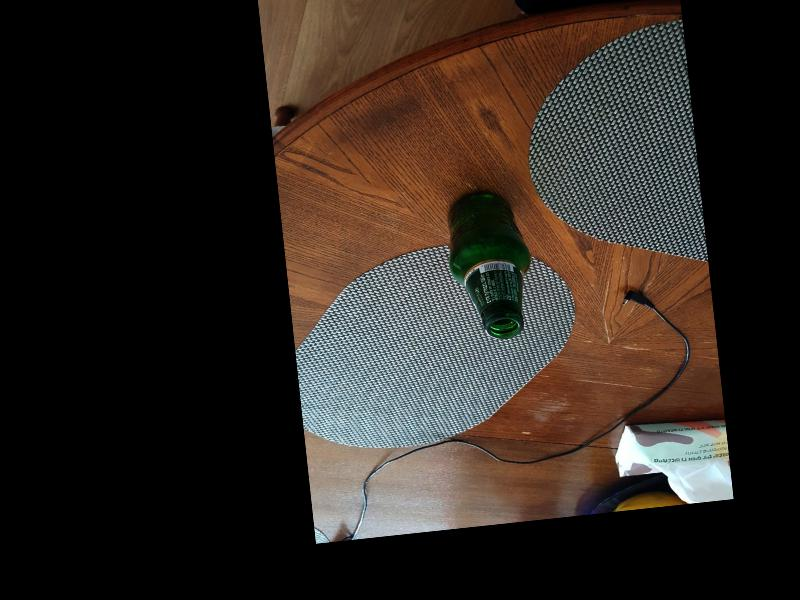Beer: (442, 187, 536, 344)
